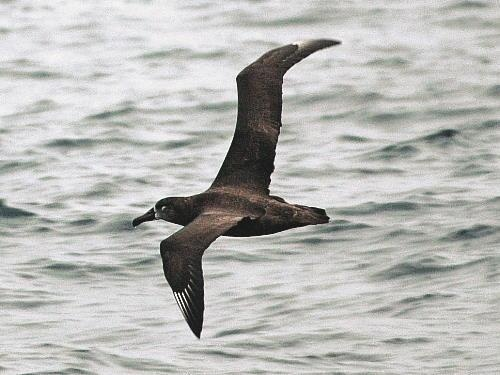bird: (124, 29, 342, 340)
